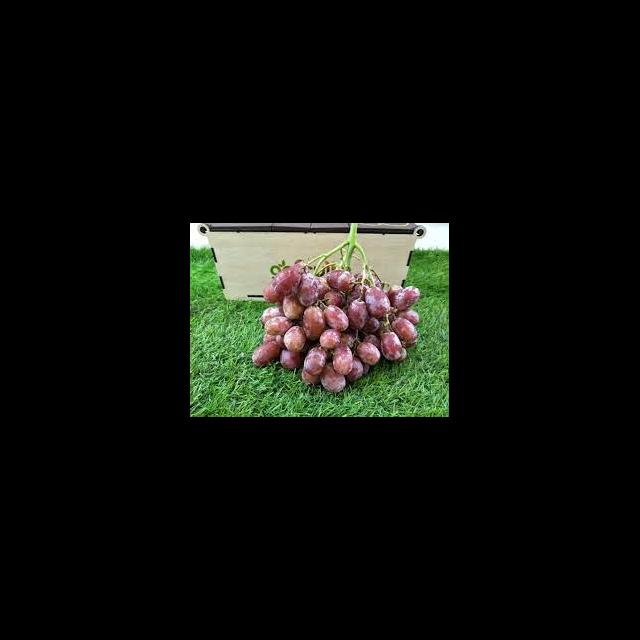grape: (252, 261, 420, 393)
